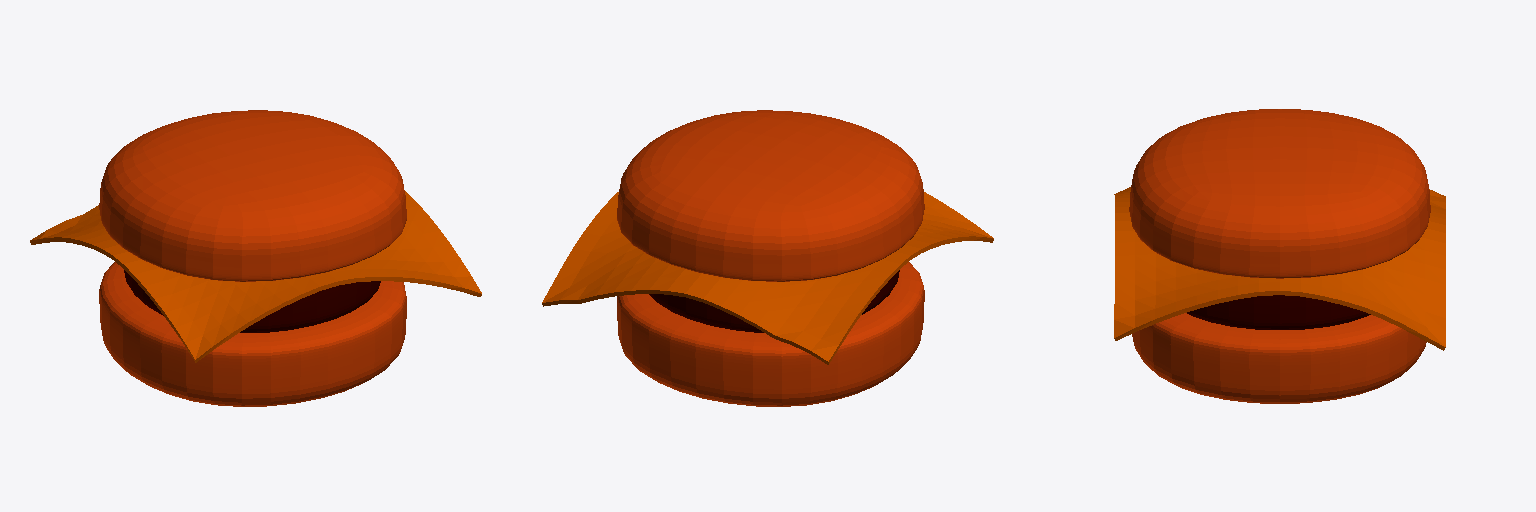
Rendered from burger.obj.
3 renders of one model, left to right at view 1: azimuth 30°, elevation 25°; view 2: azimuth 150°, elevation 25°; view 3: azimuth 270°, elevation 25°, orthographic.
Parts seen in each view (by area): view 1: Cube.002, Cube, Plane, Cube.001; view 2: Cube.002, Cube, Plane, Cube.001; view 3: Cube.002, Cube, Plane, Cube.001.
Part boxes in pixels (x1,y1,x2,y2): Cube.002: (99, 110, 406, 281); Cube: (99, 262, 406, 406); Plane: (30, 191, 481, 362); Cube.001: (124, 270, 380, 332); Cube.002: (617, 110, 924, 281); Cube: (617, 262, 924, 406); Plane: (542, 192, 993, 364); Cube.001: (649, 270, 899, 332); Cube.002: (1129, 109, 1430, 278); Cube: (1132, 313, 1426, 403); Plane: (1114, 187, 1445, 350); Cube.001: (1187, 295, 1370, 329).
Size of the model in its own units: 20.49 by 14.62 by 20.5.